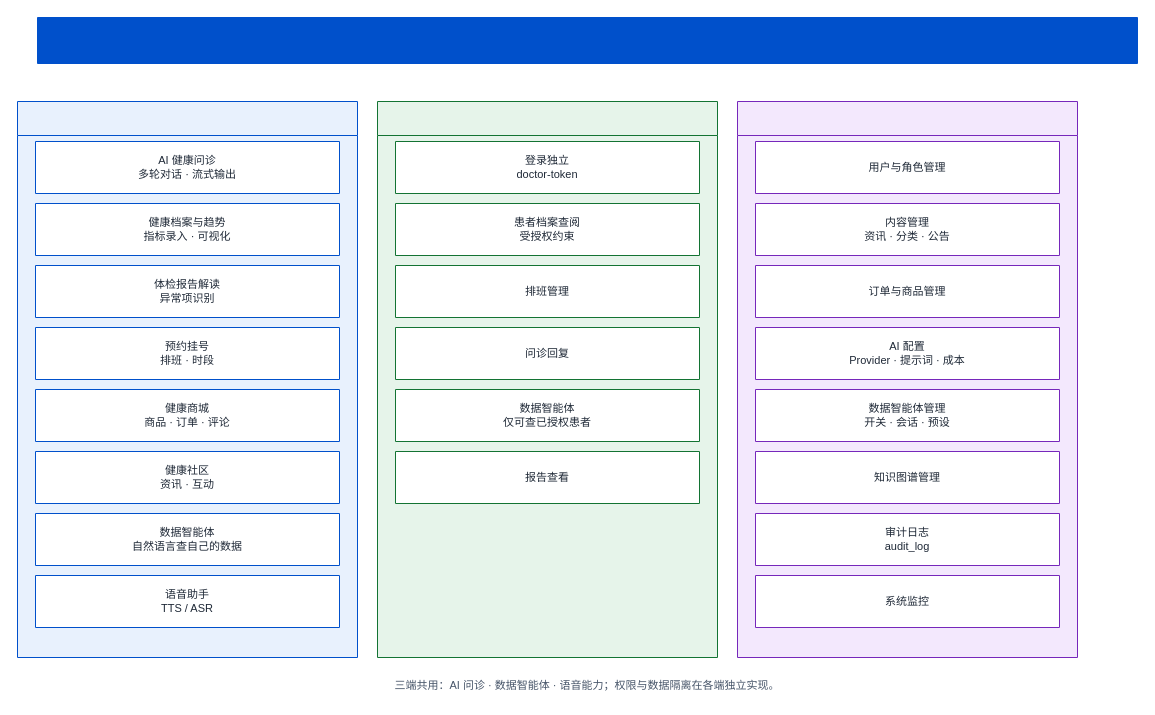
The diagram is 1155 pixels wide and 715 high, and some of its shapes have lost their labels. Each missing label, with the box of its shape:
产品功能全景 · 用户端 / 医生端 / 管理后台: (36, 16, 1138, 64)
医生端: (376, 100, 718, 658)
用户端: (16, 100, 358, 658)
管理后台: (736, 100, 1078, 658)
